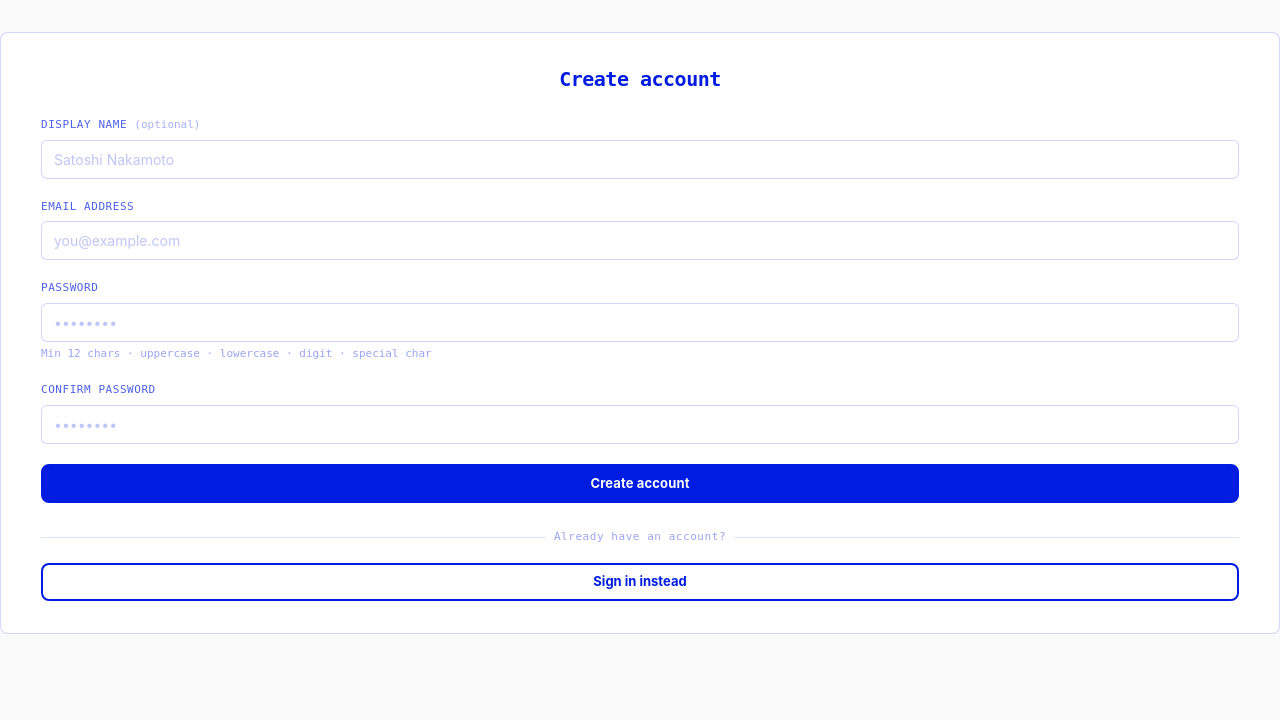
Scenario: SignupPage › Validation › shows error when password is too short
In the field labelled "Email address": (640, 240) [41,221,1239,260], type "test@example.com"
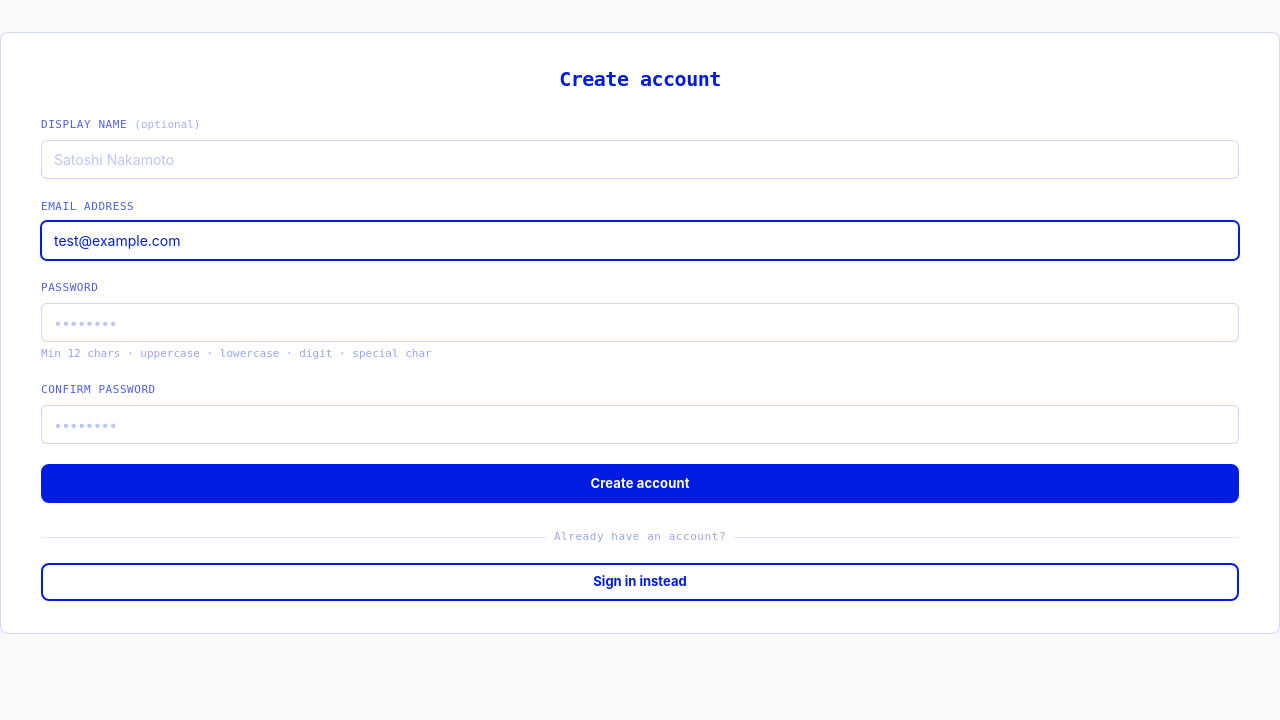
In the password field labelled "Password": (640, 322) [41,302,1239,342], type "Short1"
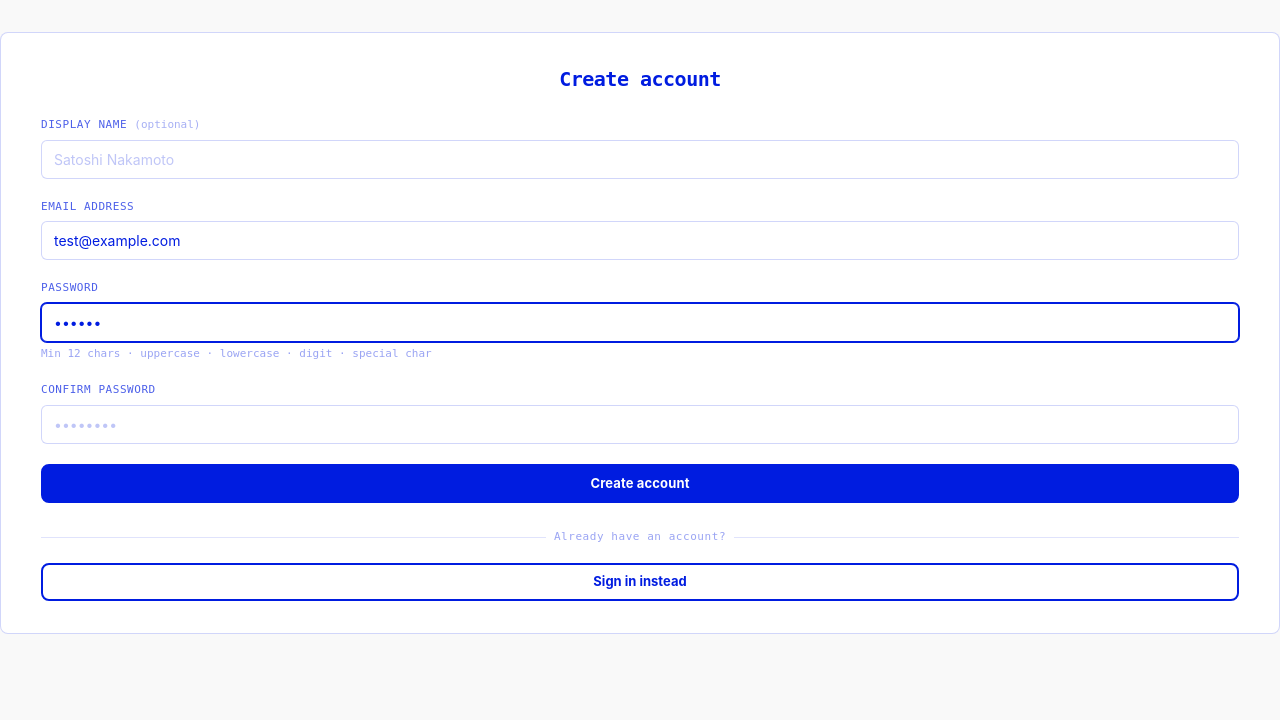
In the password field labelled "Confirm password": (640, 424) [41,404,1239,444], type "Short1"
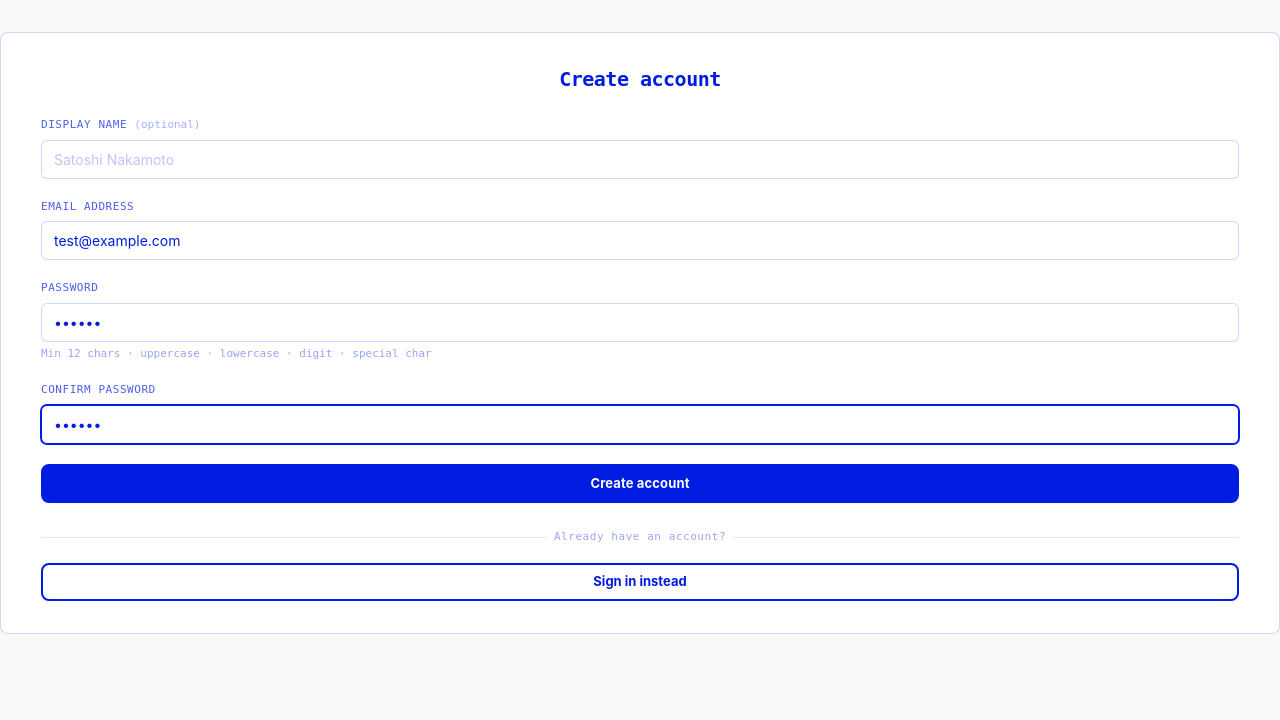
Click the button "Create account": (640, 483) [41,464,1239,503]
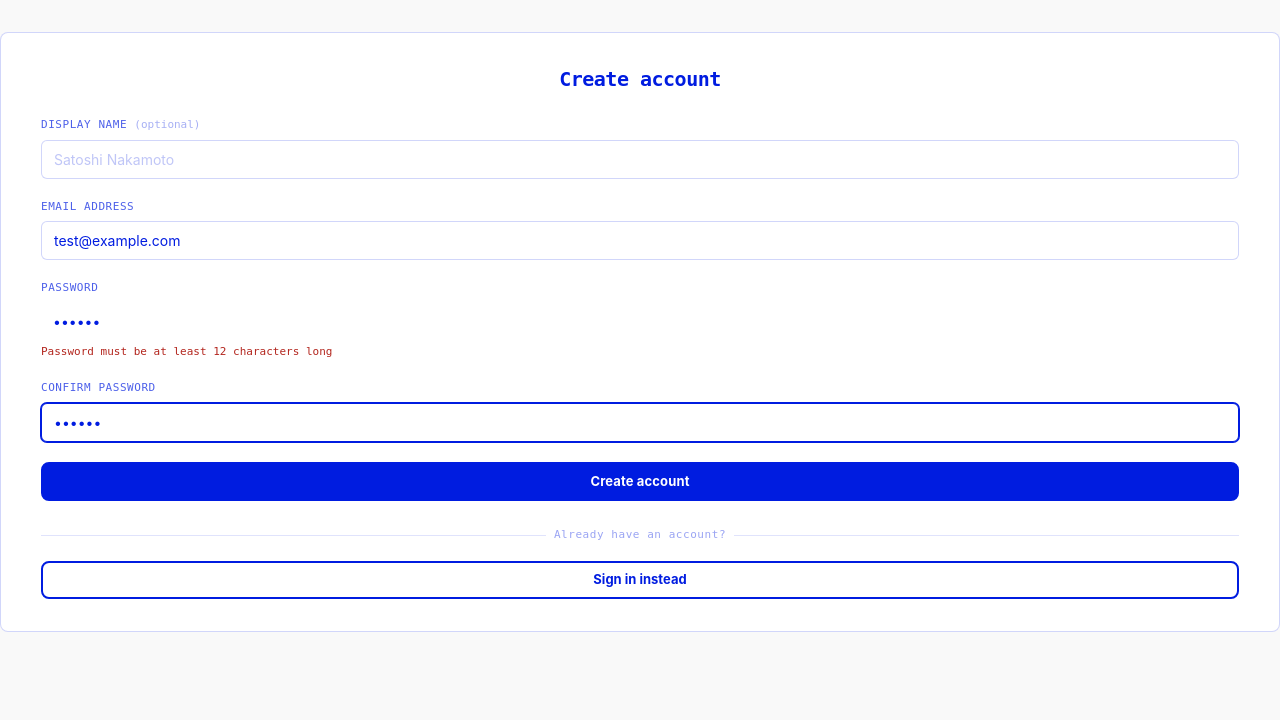
Expected: the text "Password must be at least 12 characters long" is shown, [41,344,332,358]
